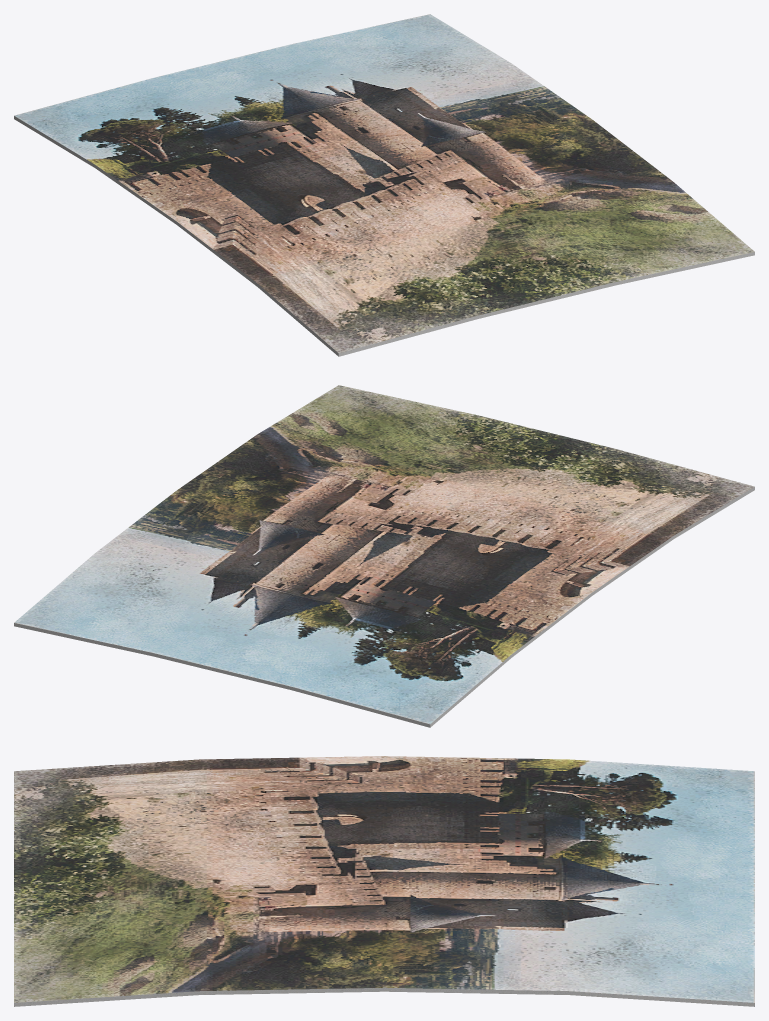
The model's file is 02_05_photograph_world01.dae.
3 renders of one model, top to bottom at view 1: azimuth 30°, elevation 25°; view 2: azimuth 150°, elevation 25°; view 3: azimuth 270°, elevation 25°, orthographic. The views are drawn at different scales.
Visible parts, largest first — view 1: photograph_world01; view 2: photograph_world01; view 3: photograph_world01.
Boxes of the visible parts, bbox=[...] form: photograph_world01: bbox=[14, 14, 754, 356]; photograph_world01: bbox=[14, 385, 754, 727]; photograph_world01: bbox=[14, 756, 754, 1006].
Bounding box in the file's own units: 0.1526 × 0.0072 × 0.2062.
